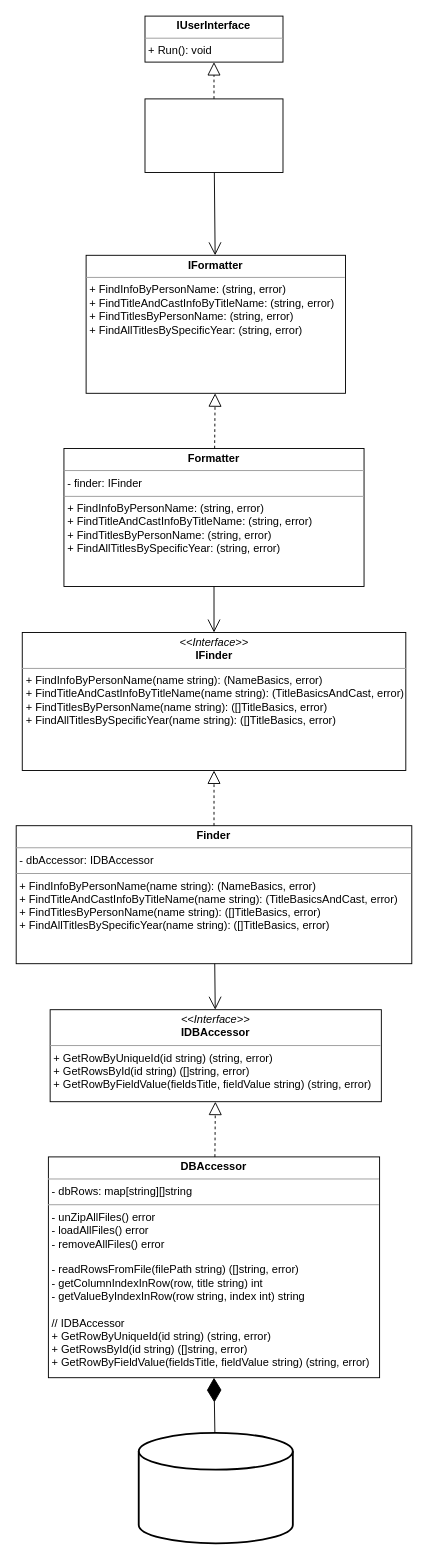
Image size: 428x1560. Some labels were removed from this diagram. Here are the shapes that lost their labels. From the top down, the centre of each, then its label:
At point (213, 135): "UserInterface - formatter: IFormatter + Run(): void".
At point (215, 1488): "DB Files: *.tsv".
